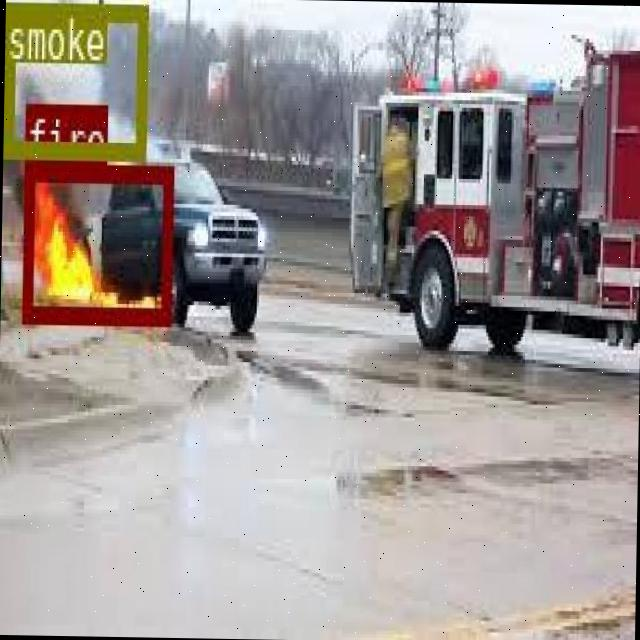fire: (21, 160, 170, 323)
smoke: (2, 0, 144, 156)
